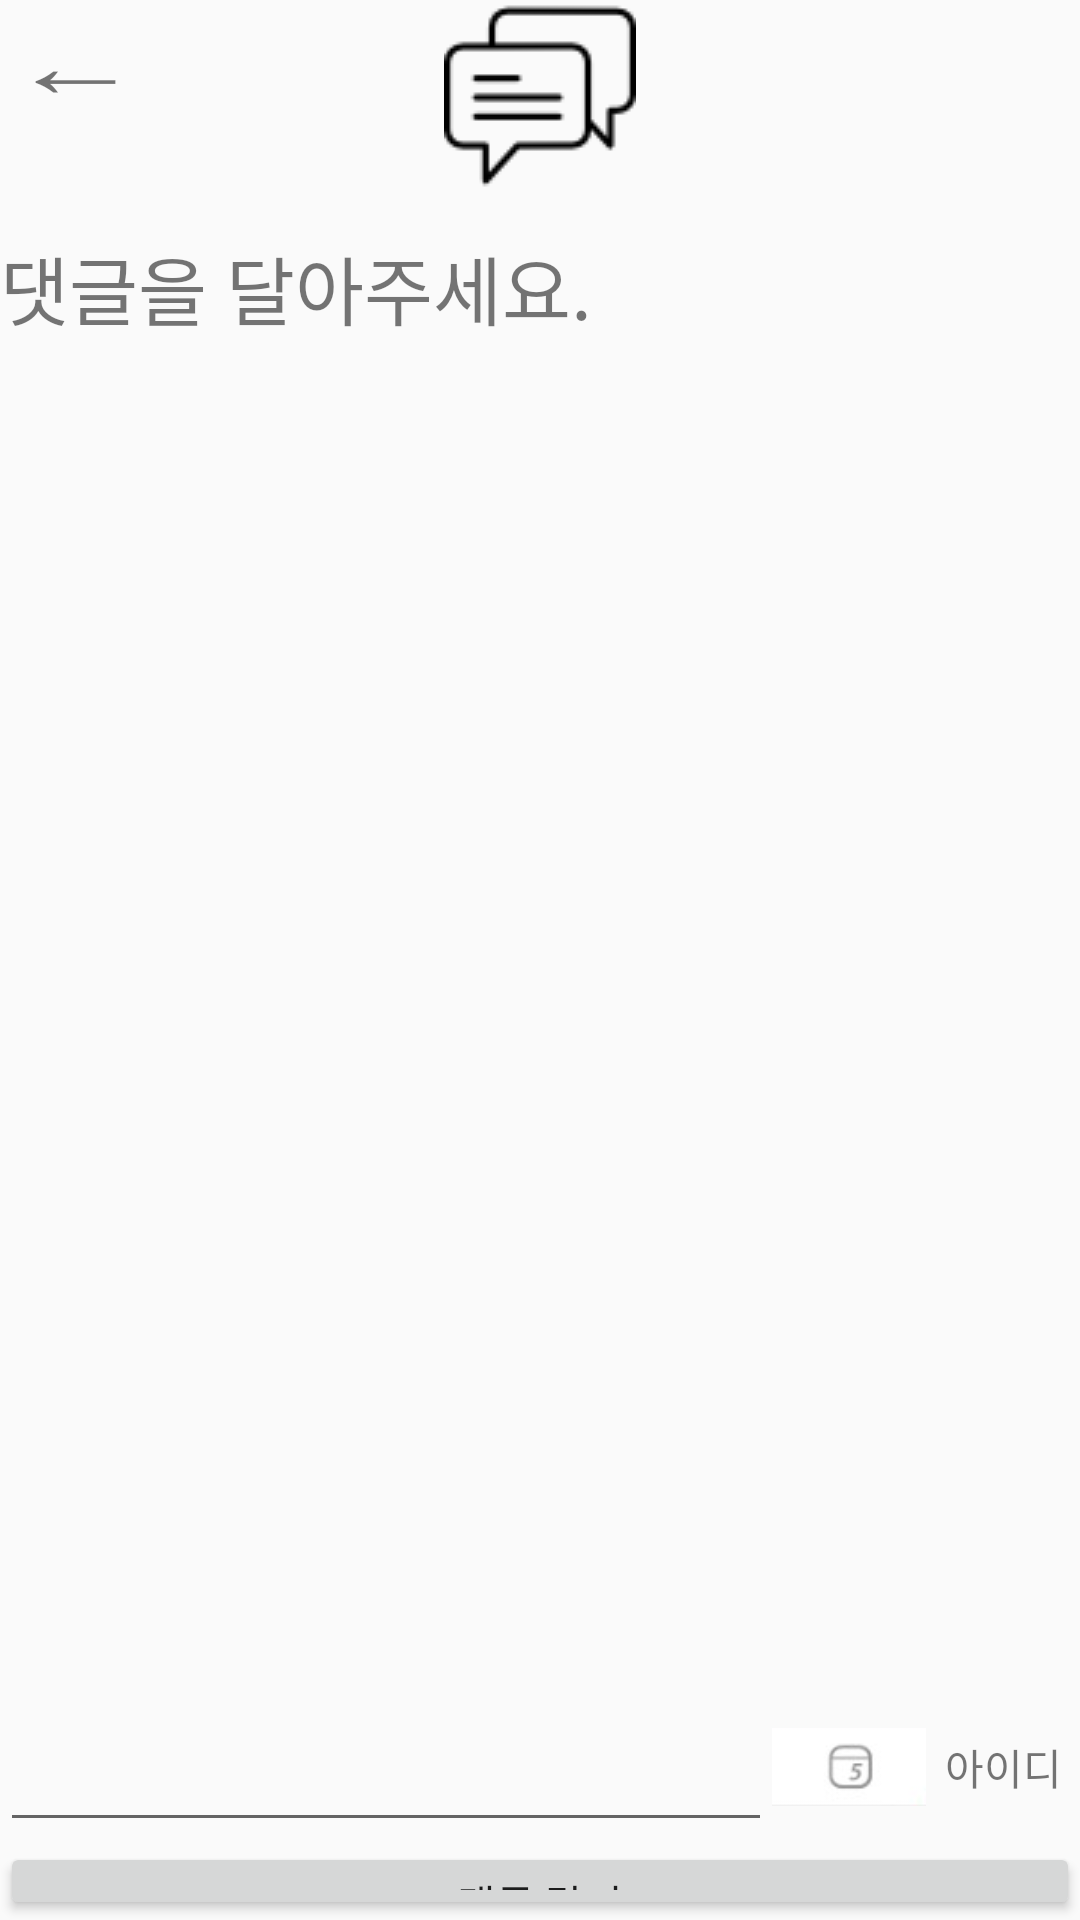

Icons on this 1080 × 1920 Android screen, each with its box as (x1, y1, x2, y2):
chat: (444, 5, 636, 186)
